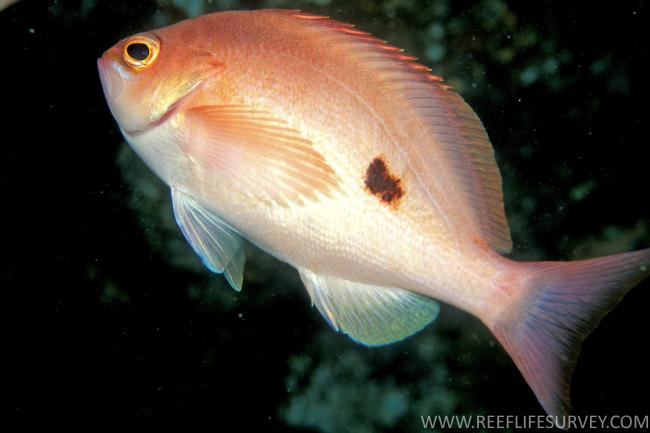fish: (98, 8, 647, 428)
